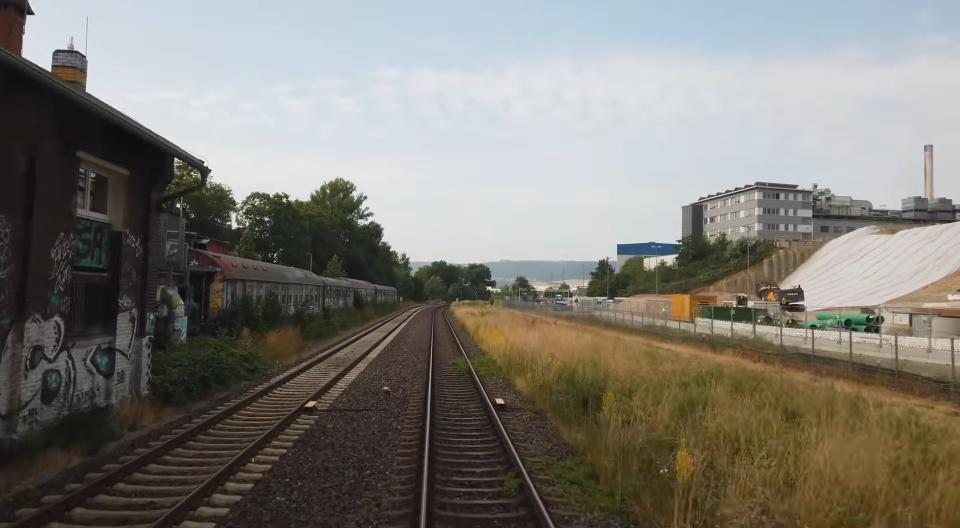Plant: (552, 456, 620, 510), (472, 355, 505, 378), (504, 472, 520, 493), (452, 357, 468, 370)
